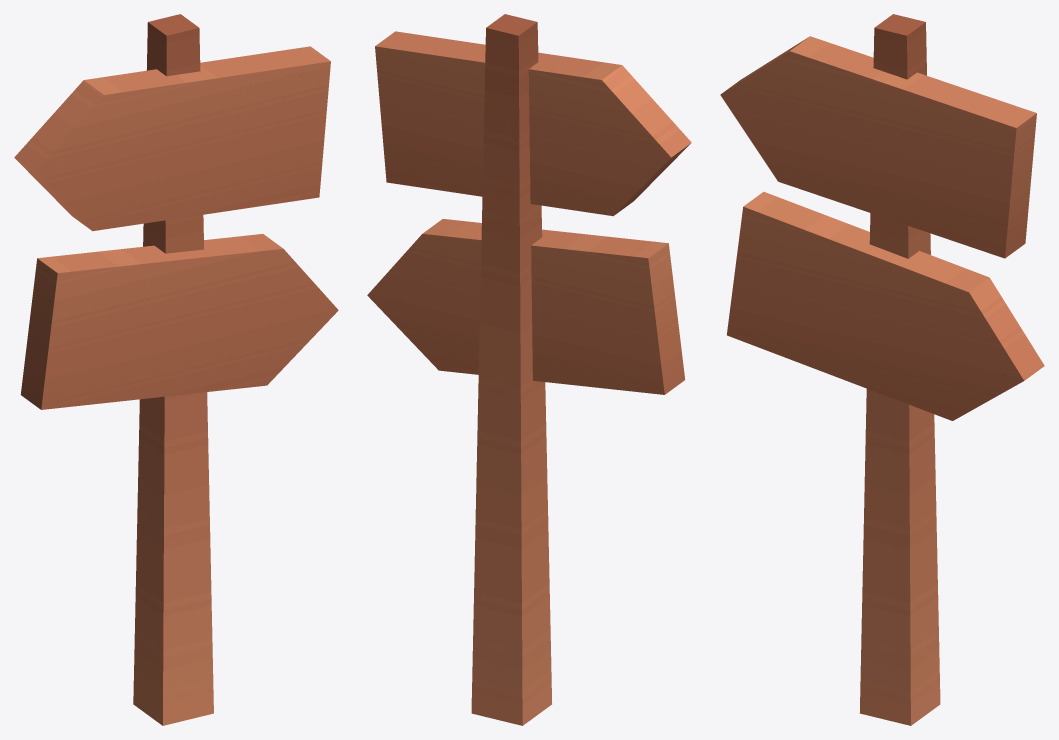
Rendered from prop-ks-signpost.glb.
3 views of the same model, side by side, from view 1: azimuth 30°, elevation 25°; view 2: azimuth 150°, elevation 25°; view 3: azimuth 330°, elevation 25° (orthographic).
Visible parts, largest first — view 1: signpost; view 2: signpost; view 3: signpost.
Part boxes in pixels (box(x1,y1,x2,y2)): signpost: box(14, 14, 338, 725); signpost: box(367, 14, 691, 725); signpost: box(720, 14, 1044, 725).
Size of the model in its own units: 0.6424 by 1.38 by 0.1289.
Materials: 1 (1 with a texture image).
